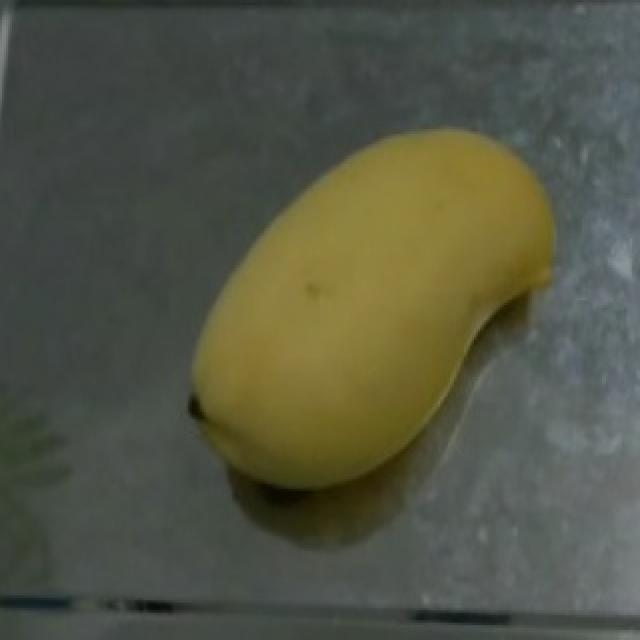fruit: (204, 109, 584, 491)
